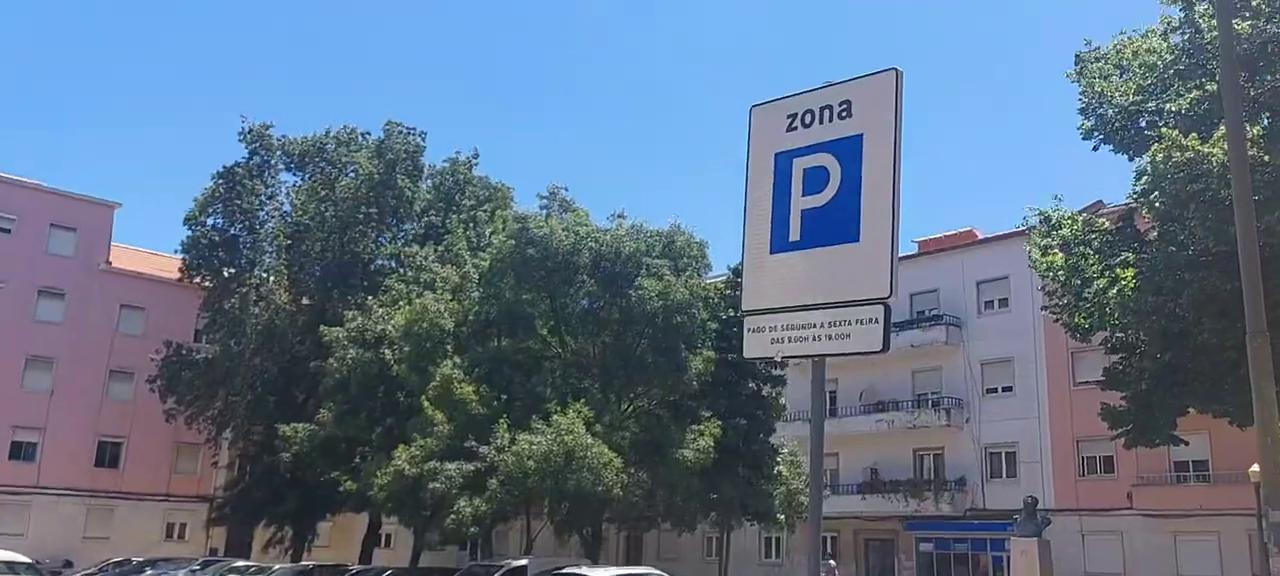zona de estacionamento autorizado: (741, 68, 903, 311)
